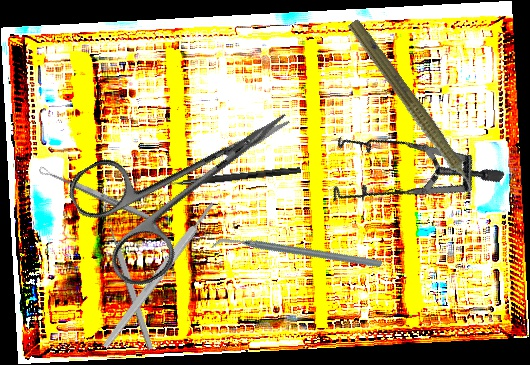Chopper: (210, 179, 384, 329)
Handpiece: (340, 16, 489, 207)
Hook Surgical: (154, 165, 301, 191)
Iris Scissors: (61, 65, 324, 296)
Scalpel Handle: (100, 200, 218, 350)
Speculum: (307, 82, 506, 274)
Surgical Spoon: (99, 204, 156, 351), (38, 165, 152, 222)
